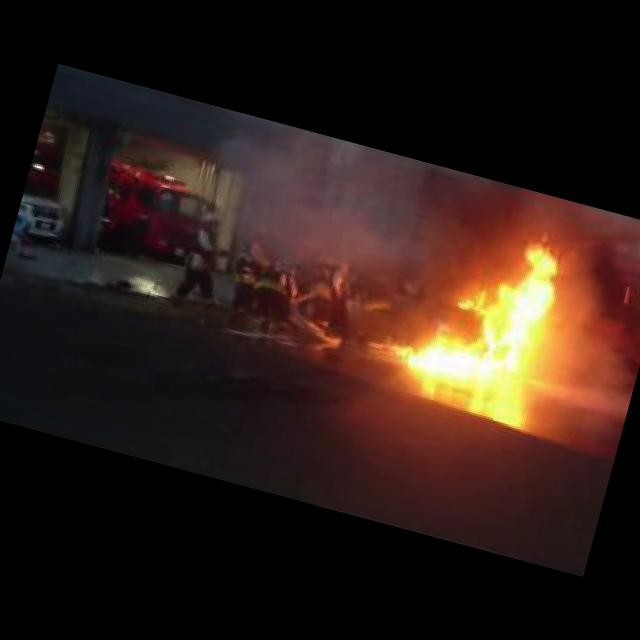fire: (389, 215, 578, 411)
